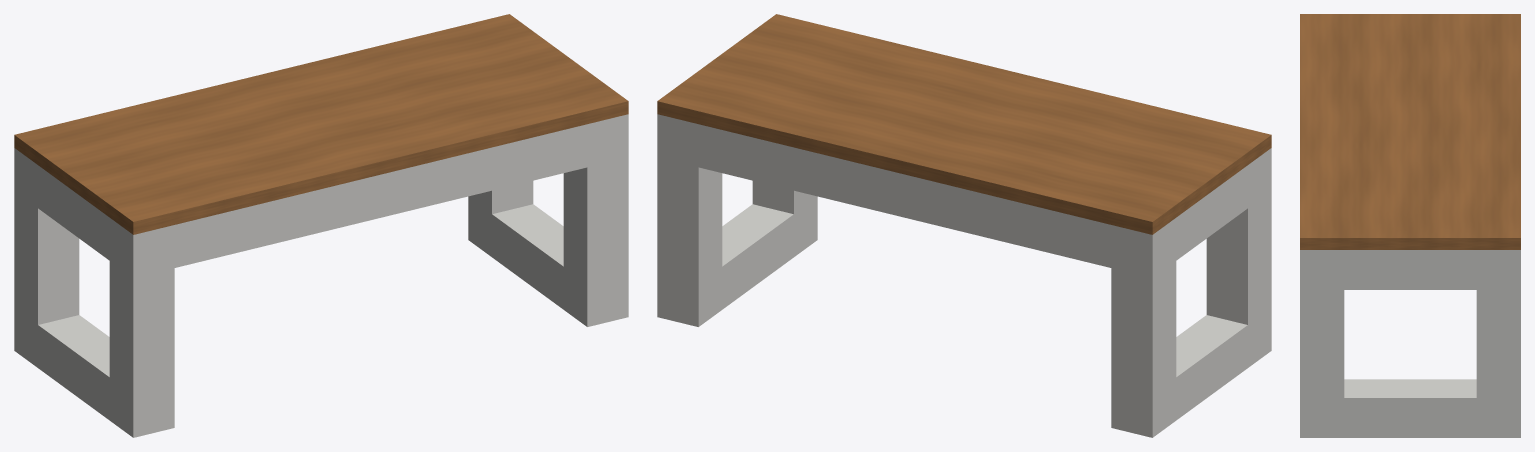
Rendered from mesa-living-nord-roble-blanco-10cm.glb.
3 renders of one model, left to right at view 1: azimuth 30°, elevation 25°; view 2: azimuth 150°, elevation 25°; view 3: azimuth 270°, elevation 25°, orthographic. The views are drawn at different scales.
Visible parts, largest first — view 1: Tapa de madera maciza 120 x 50 cm, Pata recta de hierro 10 x 10 cm (×4), Larguero longitudinal superior recto, Travesaño inferior recto (×2), Travesaño superior recto; view 2: Tapa de madera maciza 120 x 50 cm, Pata recta de hierro 10 x 10 cm (×4), Larguero longitudinal superior recto, Travesaño inferior recto (×2), Travesaño superior recto; view 3: Tapa de madera maciza 120 x 50 cm, Pata recta de hierro 10 x 10 cm (×2), Travesaño inferior recto, Travesaño superior recto.
Boxes of the visible parts, x1,y1,x2,y2 form: Tapa de madera maciza 120 x 50 cm: [14, 14, 628, 234]; Pata recta de hierro 10 x 10 cm (×4): [14, 114, 628, 437]; Larguero longitudinal superior recto: [174, 124, 587, 267]; Travesaño inferior recto (×2): [26, 204, 575, 428]; Travesaño superior recto: [26, 158, 121, 269]; Tapa de madera maciza 120 x 50 cm: [657, 14, 1271, 234]; Pata recta de hierro 10 x 10 cm (×4): [657, 114, 1271, 437]; Larguero longitudinal superior recto: [698, 124, 1111, 267]; Travesaño inferior recto (×2): [710, 204, 1247, 428]; Travesaño superior recto: [1164, 165, 1247, 268]; Tapa de madera maciza 120 x 50 cm: [1300, 14, 1520, 249]; Pata recta de hierro 10 x 10 cm (×2): [1300, 250, 1520, 437]; Travesaño inferior recto: [1323, 379, 1497, 437]; Travesaño superior recto: [1322, 250, 1498, 289].
Bounding box in the file's own units: 1.2 × 0.5 × 0.5.
Materials: 2 (1 with a texture image).
